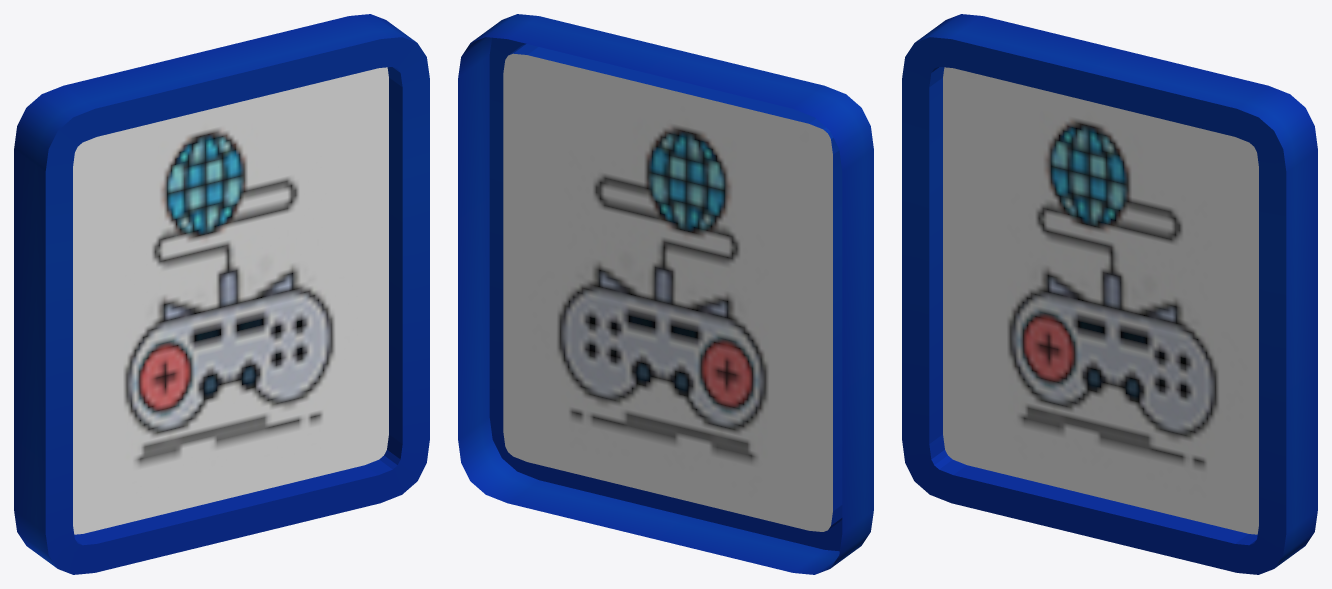
File: Game_center.FBX
The picture shows the model from 3 angles, left to right: view 1: azimuth 30°, elevation 25°; view 2: azimuth 150°, elevation 25°; view 3: azimuth 330°, elevation 25°; orthographic projection.
Visible parts, largest first — view 1: Pancart_Refrectoire001; view 2: Pancart_Refrectoire001; view 3: Pancart_Refrectoire001.
Boxes of the visible parts, x1,y1,x2,y2 form: Pancart_Refrectoire001: (14, 14, 429, 574); Pancart_Refrectoire001: (458, 14, 873, 574); Pancart_Refrectoire001: (902, 14, 1317, 574).
Size of the model in its own units: 26 by 30 by 3.7.
1 material, 1 textured.
